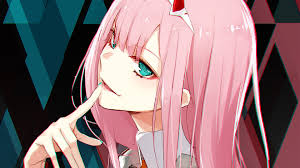zeroTwo: (91, 1, 255, 116)
